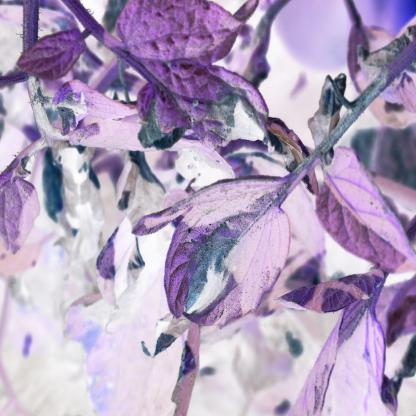Tomato leaf mosaic virus: (153, 173, 293, 347), (118, 33, 265, 163)
